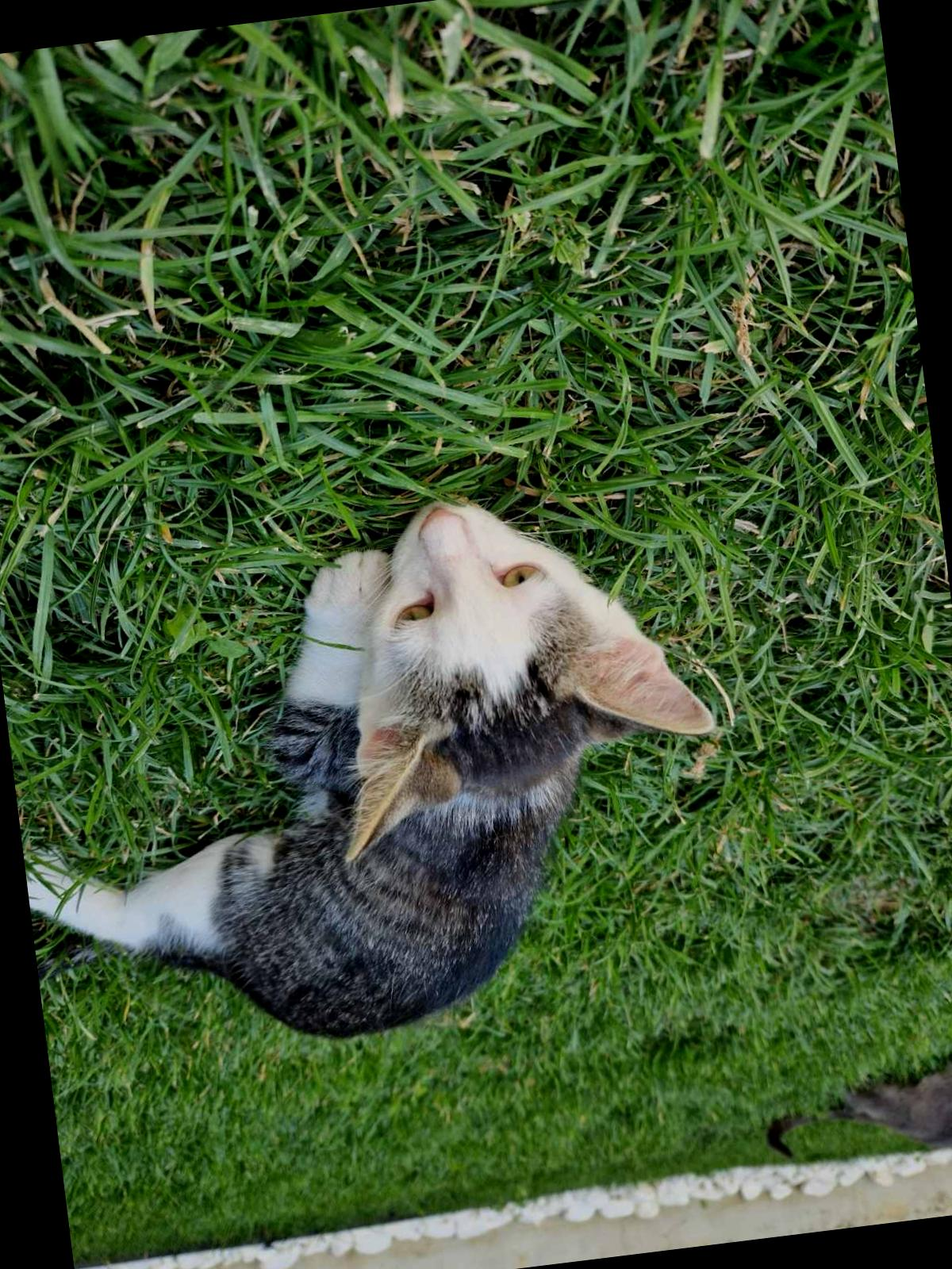macka: (0, 463, 748, 1076), (754, 1047, 952, 1176)
